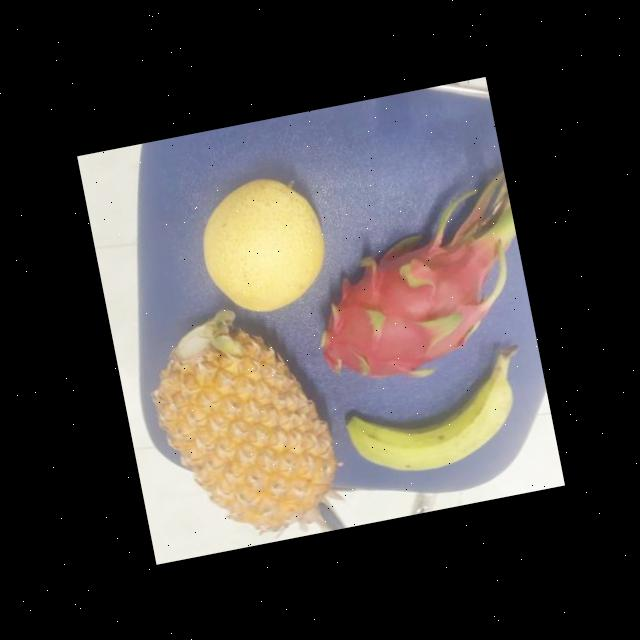banana: (332, 354, 528, 483)
pear: (186, 169, 336, 319)
pineapple: (134, 304, 338, 549)
pitaya: (290, 226, 522, 396)
